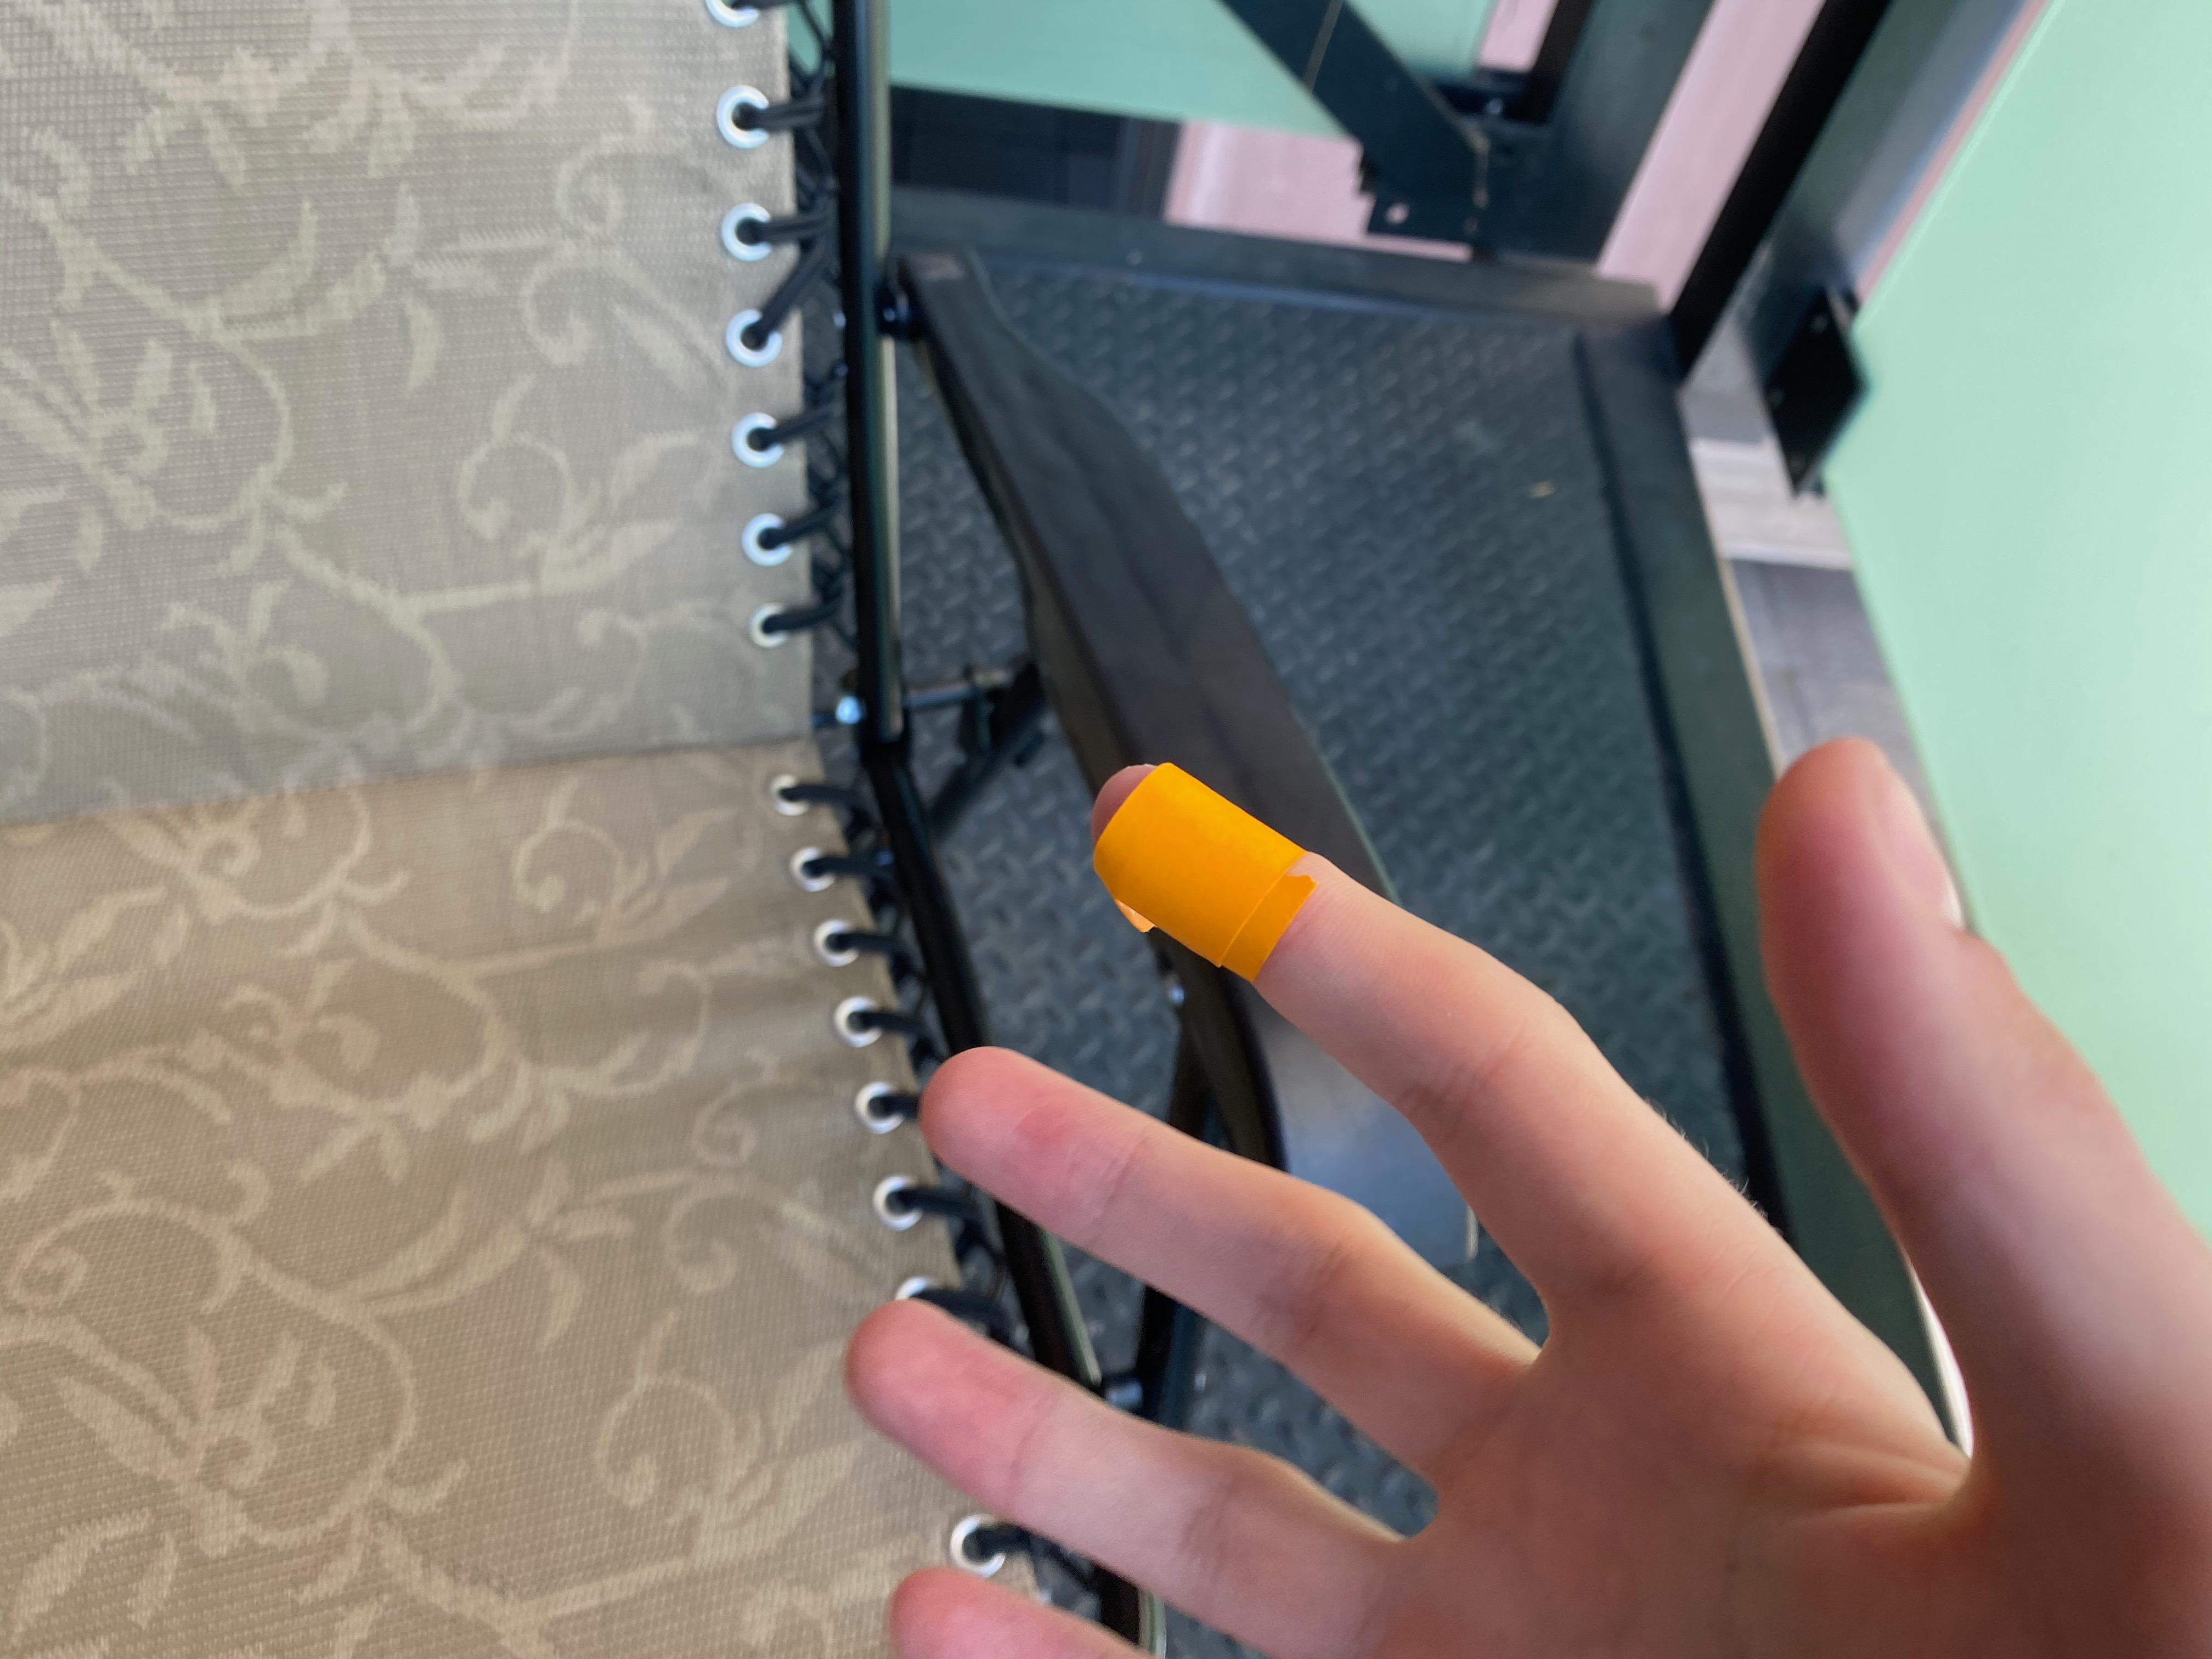fingertip: (1069, 753, 1324, 1014)
